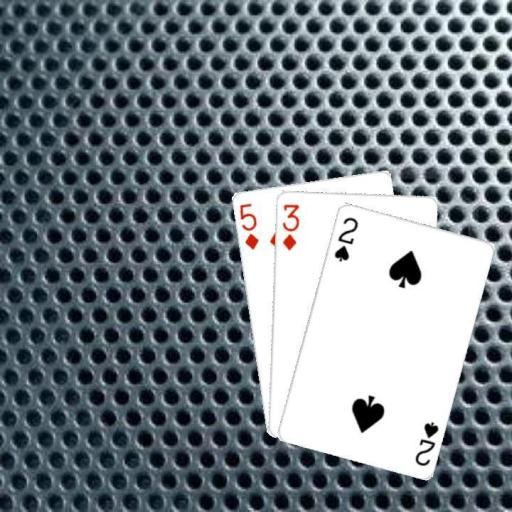card-corner: (330, 213, 360, 263), (412, 418, 440, 468), (236, 200, 260, 251), (279, 200, 301, 252)
